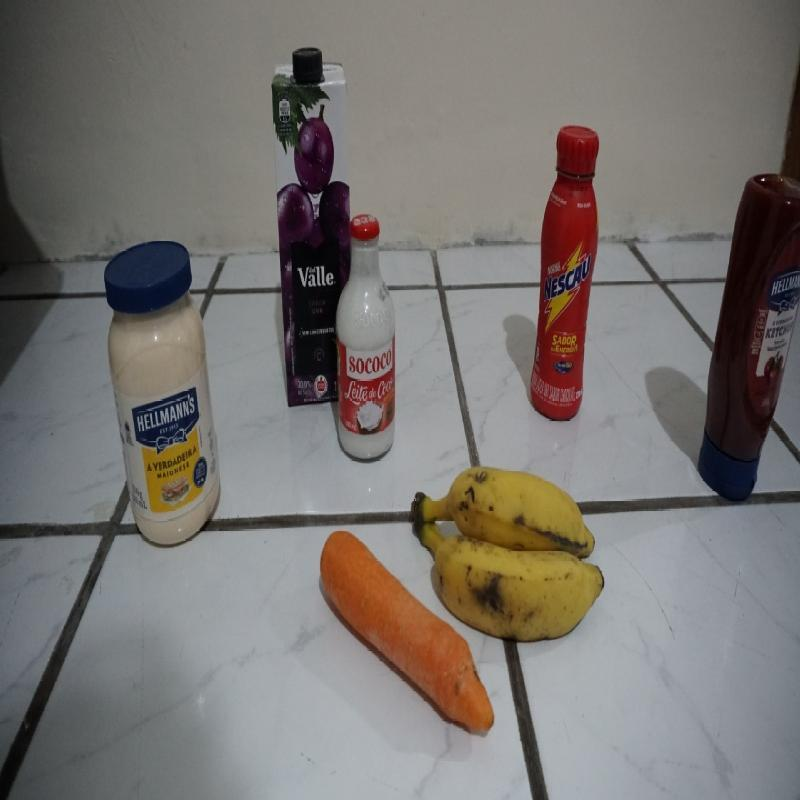Banana: (411, 466, 605, 641)
Carrot: (320, 529, 494, 742)
Chocolate Milk: (530, 122, 601, 431)
Coconut Milk: (334, 212, 400, 462)
Ketchup: (698, 171, 800, 500)
Mayonnaise: (103, 242, 223, 548)
